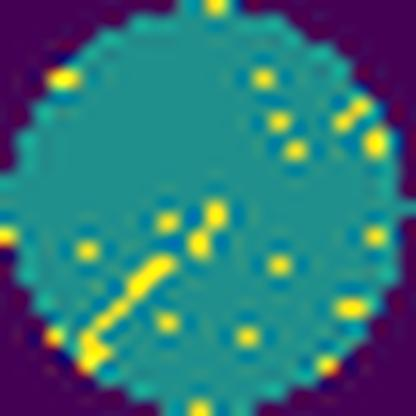Scratch: (77, 251, 183, 377)
